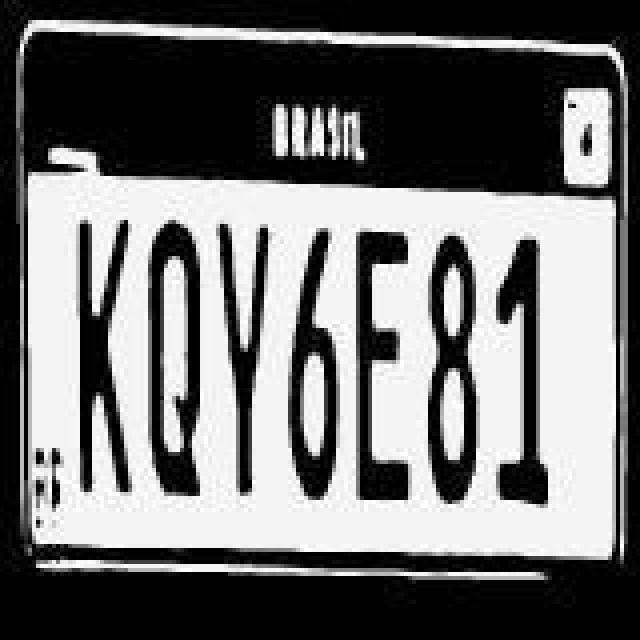1: (494, 228, 554, 516)
6: (286, 226, 346, 510)
8: (424, 228, 488, 508)
E: (354, 210, 414, 518)
K: (72, 206, 136, 514)
Q: (142, 200, 210, 504)
Y: (214, 218, 274, 502)
